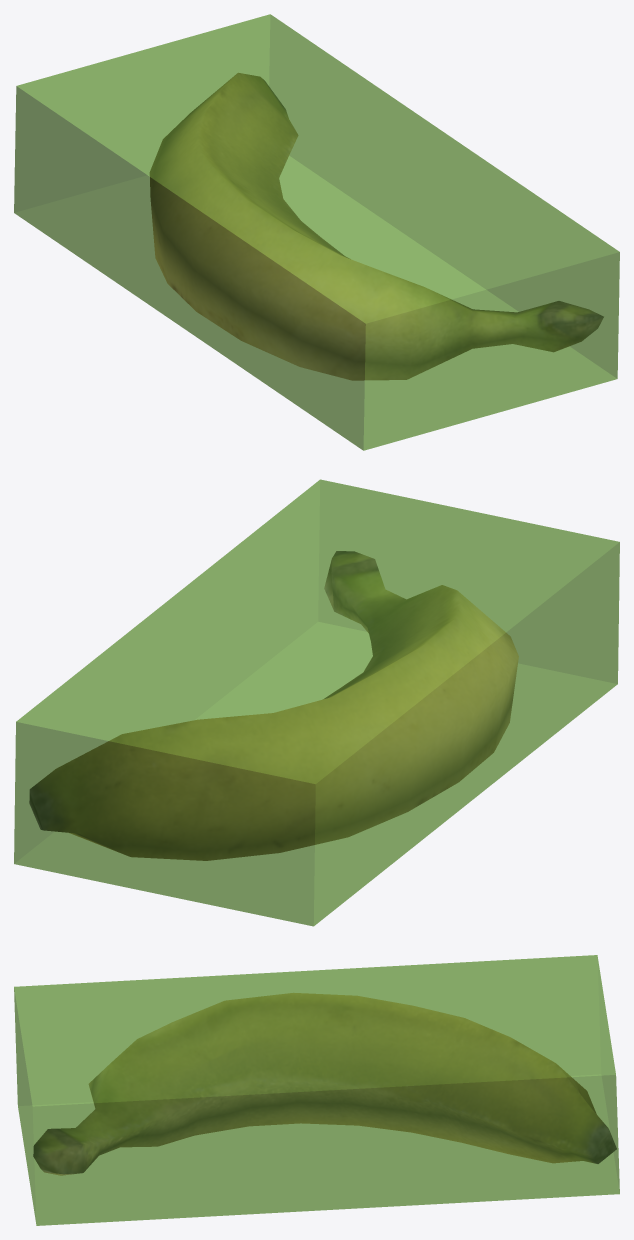
Rendered from pg_Banana_03.fbx.
3 renders of one model, top to bottom at view 1: azimuth 30°, elevation 25°; view 2: azimuth 150°, elevation 25°; view 3: azimuth 270°, elevation 25°, orthographic. The views are drawn at different scales.
Parts seen in each view (by area): view 1: pg_Banana_03_a_col, pg_Banana_03_a_LOD0; view 2: pg_Banana_03_a_col, pg_Banana_03_a_LOD0; view 3: pg_Banana_03_a_col, pg_Banana_03_a_LOD0.
Boxes of the visible parts, box(x1,y1,x2,y2) form: pg_Banana_03_a_col: box(14, 14, 619, 450); pg_Banana_03_a_LOD0: box(149, 73, 603, 380); pg_Banana_03_a_col: box(14, 479, 619, 926); pg_Banana_03_a_LOD0: box(29, 551, 518, 860); pg_Banana_03_a_col: box(14, 955, 619, 1225); pg_Banana_03_a_LOD0: box(33, 993, 616, 1175).
Size of what is drawn, in the model's own units: 12.23 by 5.66 by 23.02.
